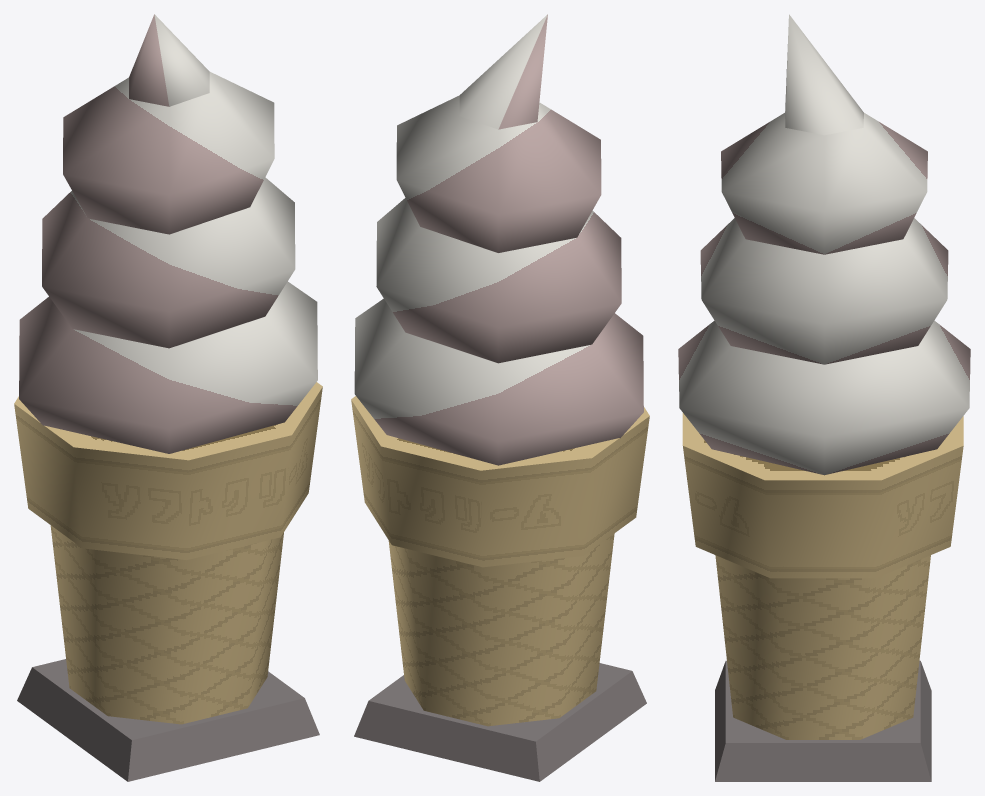
Rendered from 027b_Mixed_Cone.glb.
3 views of the same model, side by side, from view 1: azimuth 30°, elevation 25°; view 2: azimuth 150°, elevation 25°; view 3: azimuth 270°, elevation 25° (orthographic). The views are drawn at different scales.
Visible parts, largest first — view 1: part_0; view 2: part_0; view 3: part_0.
Boxes of the visible parts, x1,y1,x2,y2 form: part_0: [14, 14, 322, 781]; part_0: [351, 14, 649, 781]; part_0: [678, 14, 970, 781].
Size of the model in its own units: 0.4424 by 1.03 by 0.3846.
1 material, 1 textured.
